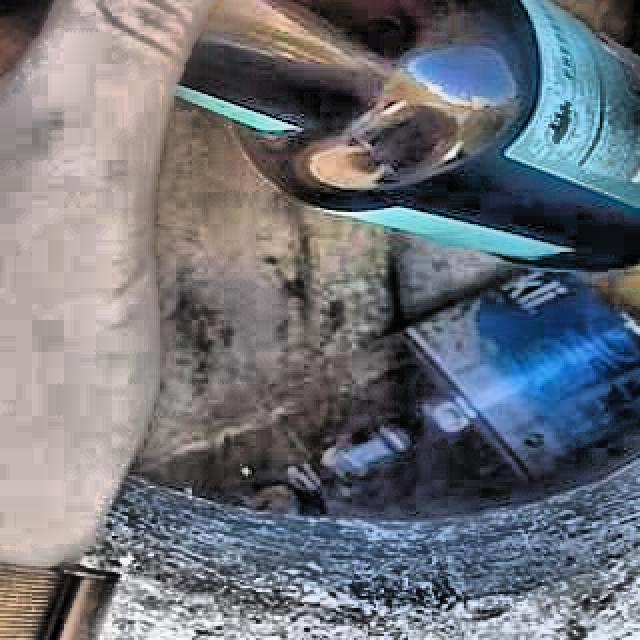glass: (179, 0, 640, 270)
